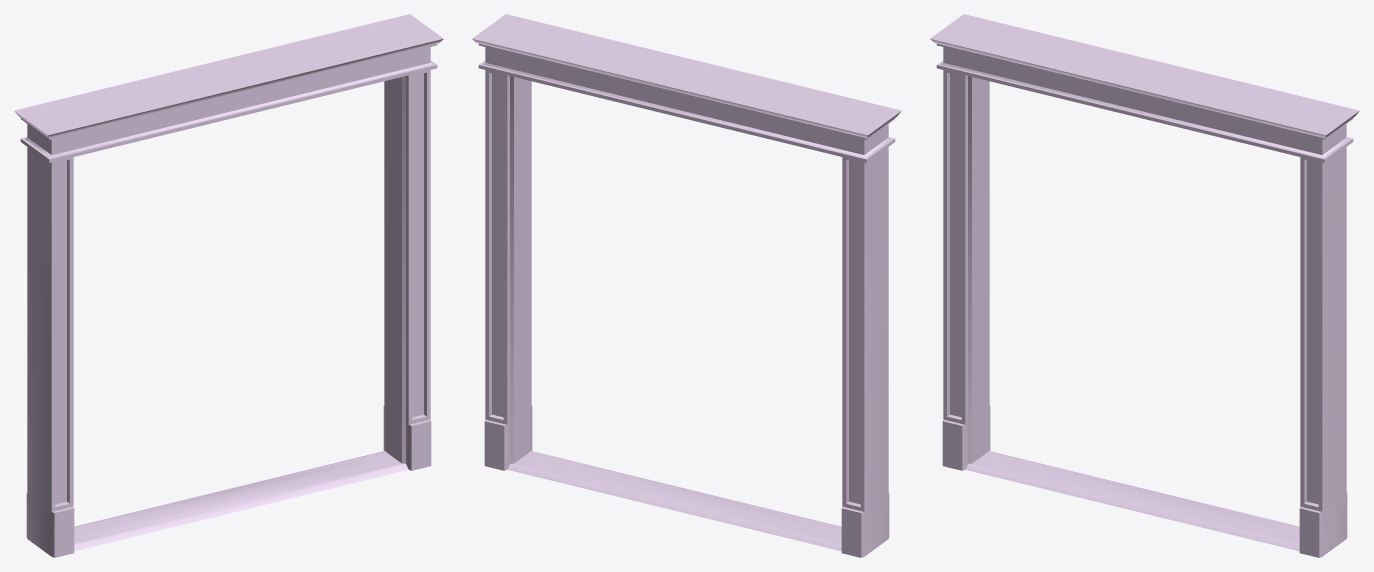
Rendered from Door_Trim_Wide_REF.fbx.
3 renders of one model, left to right at view 1: azimuth 30°, elevation 25°; view 2: azimuth 150°, elevation 25°; view 3: azimuth 330°, elevation 25°, orthographic.
Parts seen in each view (by area): view 1: Door_Trim_Wide_REF; view 2: Door_Trim_Wide_REF; view 3: Door_Trim_Wide_REF.
Part boxes in pixels (x1,y1,x2,y2): Door_Trim_Wide_REF: (14,14,443,557); Door_Trim_Wide_REF: (472,14,901,557); Door_Trim_Wide_REF: (930,14,1359,557).
Bounding box in the file's own units: 10870 × 11200 × 1609.
